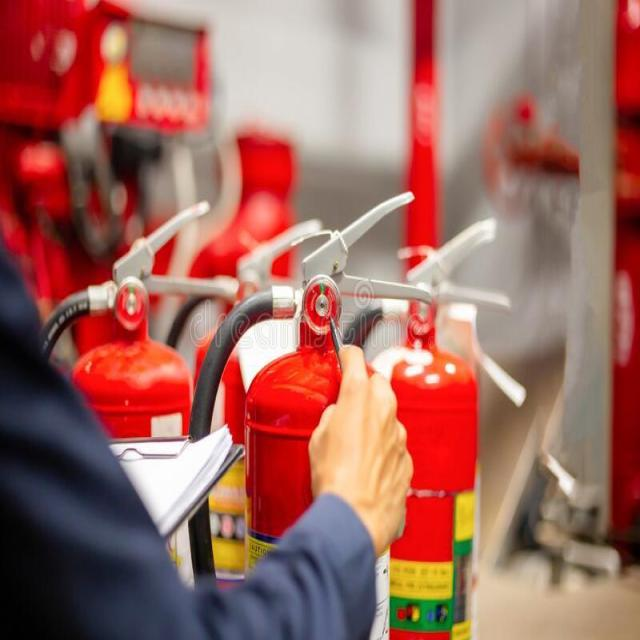fire_extinguisher: (181, 181, 432, 639), (15, 193, 235, 639), (332, 211, 518, 639)
